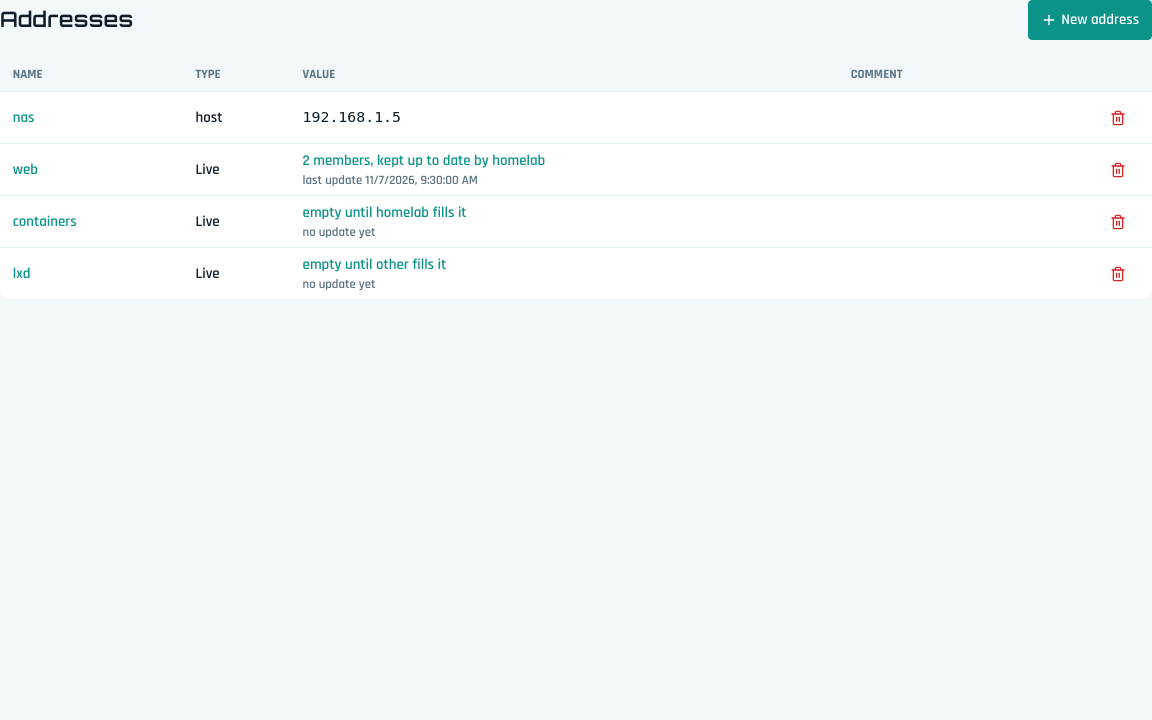
Test: Addresses: live objects › a plugin without objects:write approved is refused with a field error on value
Click the button "New address".
click(1090, 20)  # box x1=1028 y1=0 x2=1151 y2=40
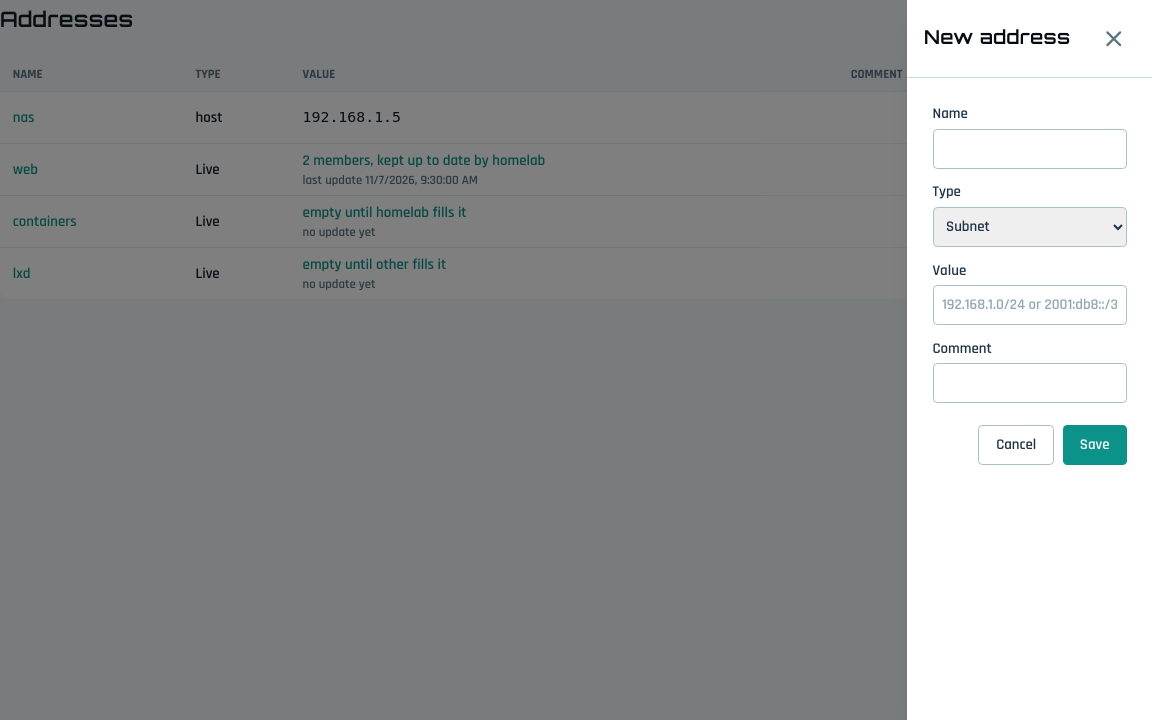
Type "vm" into the field labelled "Name".
click(1030, 148); type("vm")  # box x1=932 y1=128 x2=1126 y2=168
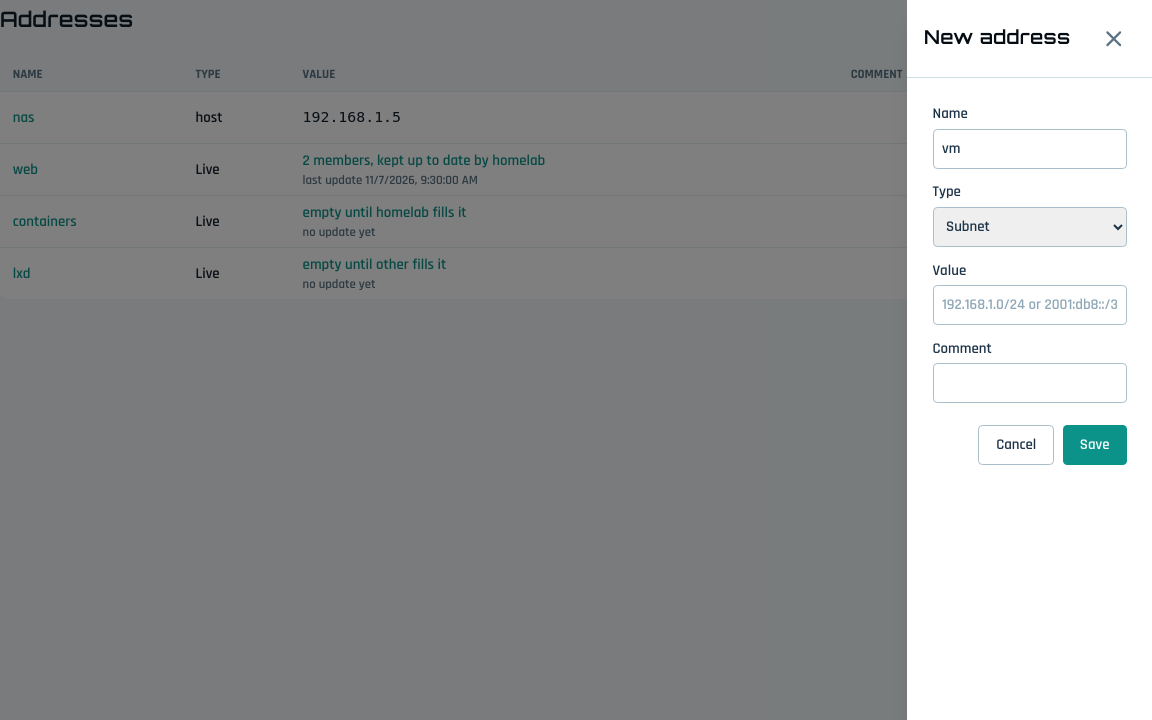
Select "Live" in the dropdown labelled "Type" at (1030, 227), box x1=932 y1=207 x2=1126 y2=247
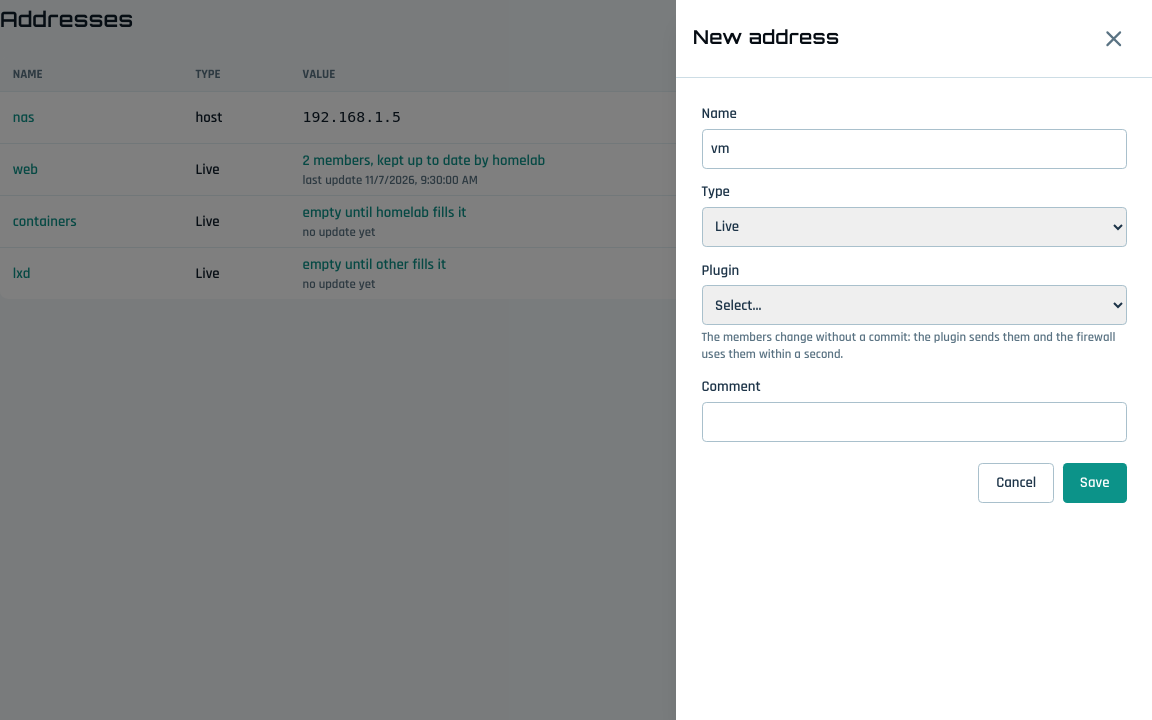
Select "uptime — needs objects:write approved" in the dropdown labelled "Plugin" at (914, 305), box x1=702 y1=285 x2=1126 y2=325
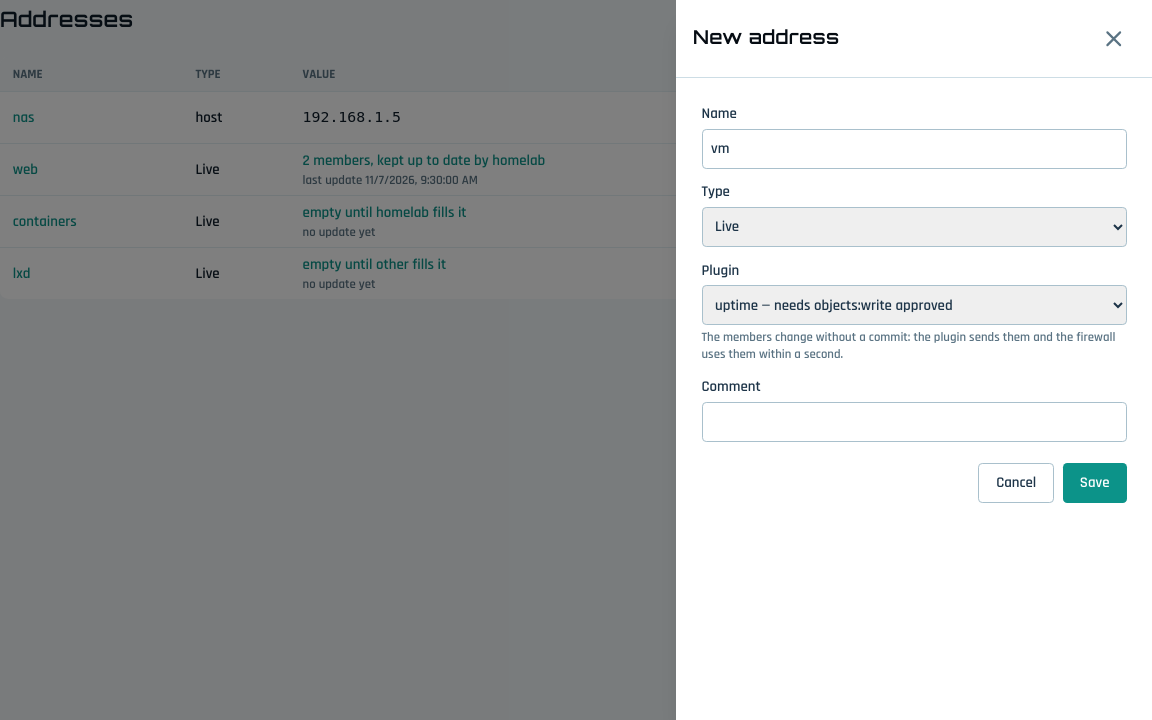
Click the button "Save".
click(1095, 483)  # box x1=1063 y1=463 x2=1126 y2=503
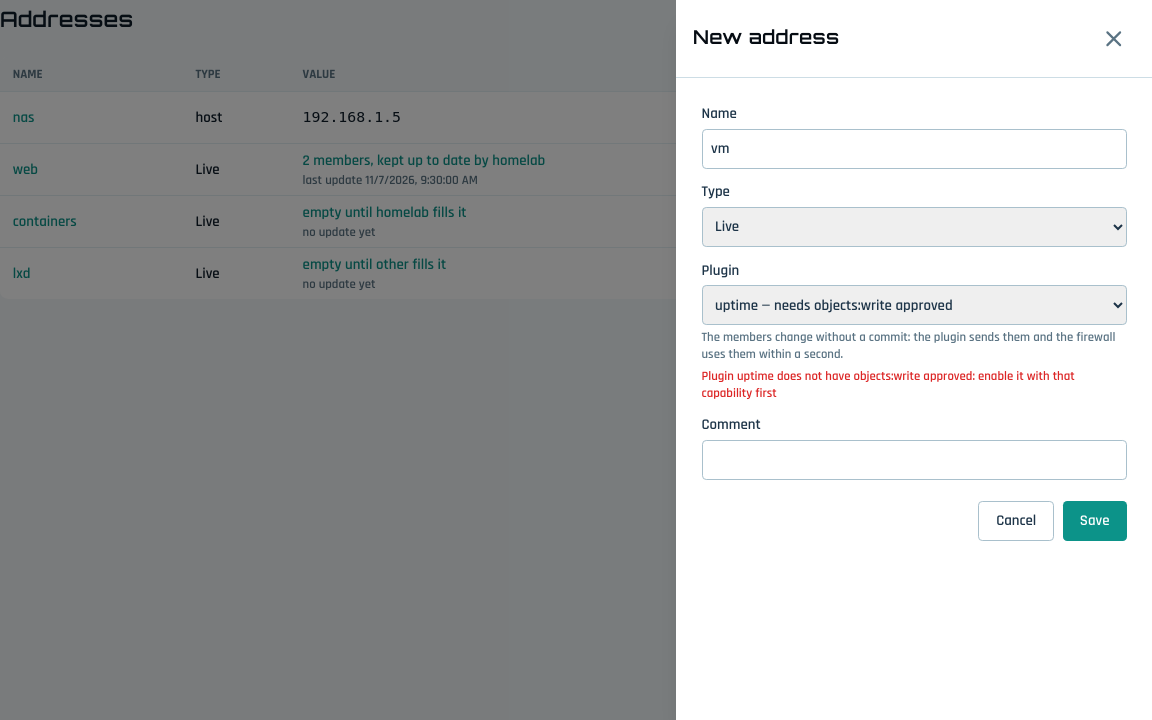
Check: the message shows "Plugin uptime does not have objects:write approved", box x1=702 y1=368 x2=1075 y2=400
